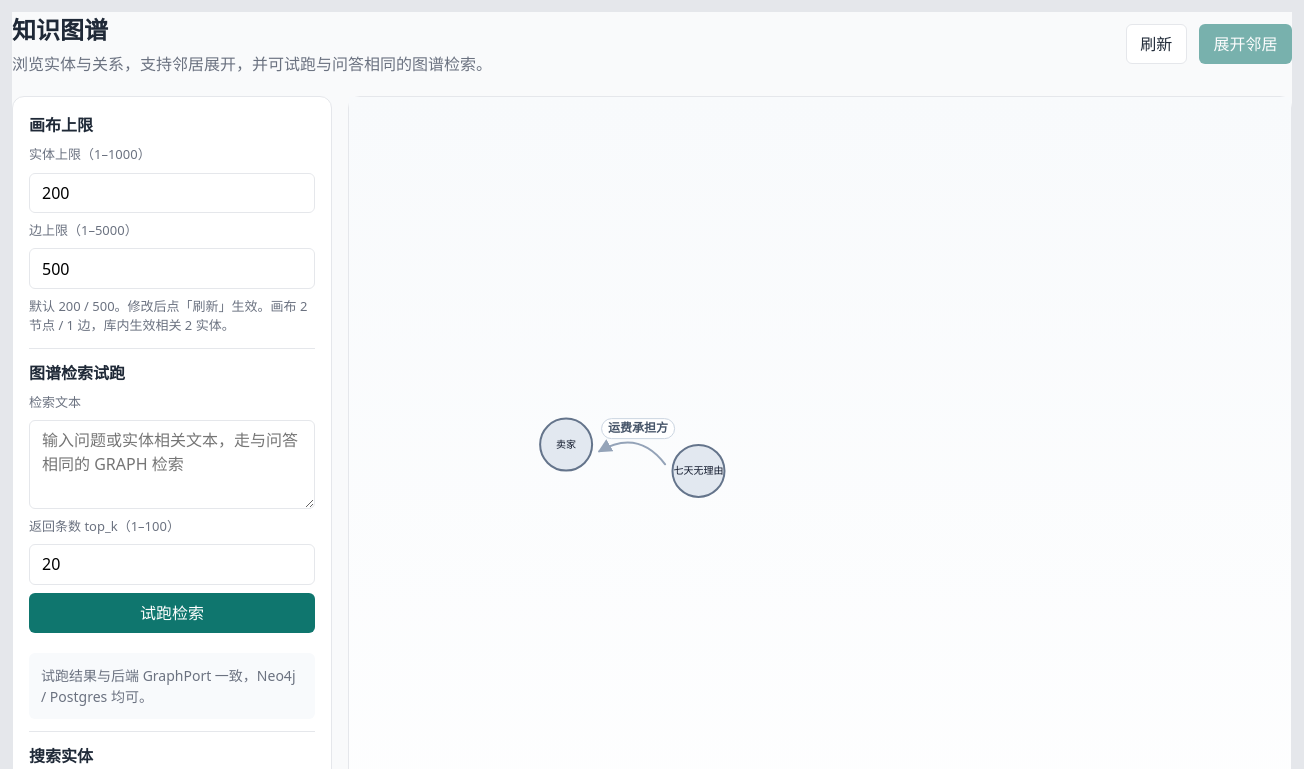
GraphPage › runs graph retrieve and selects hit entity
Expected: the heading "知识图谱" is shown, [12, 13, 108, 46]
Type "七天无理由运费" into the text box labelled "检索文本".
click(172, 464); type("七天无理由运费")  # box [29, 420, 315, 509]
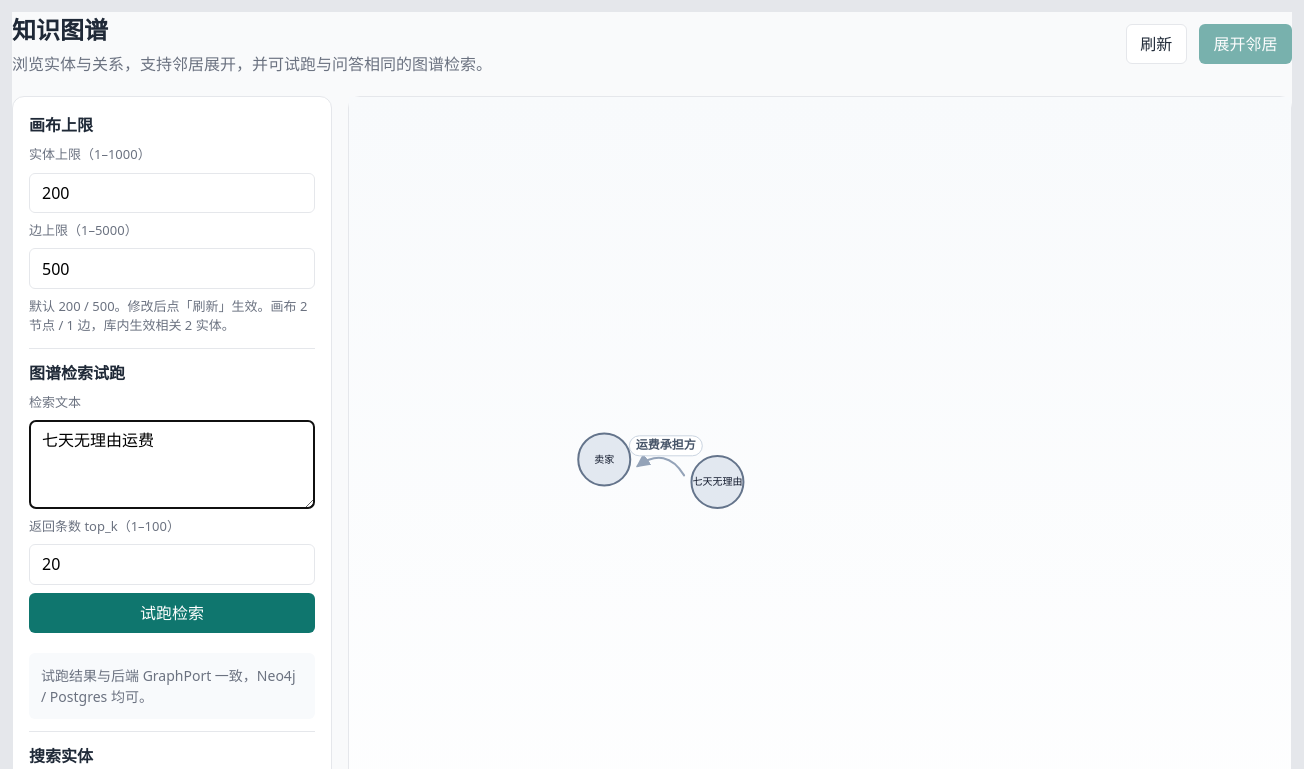
Click the button "试跑检索".
click(172, 613)  # box [29, 592, 315, 633]
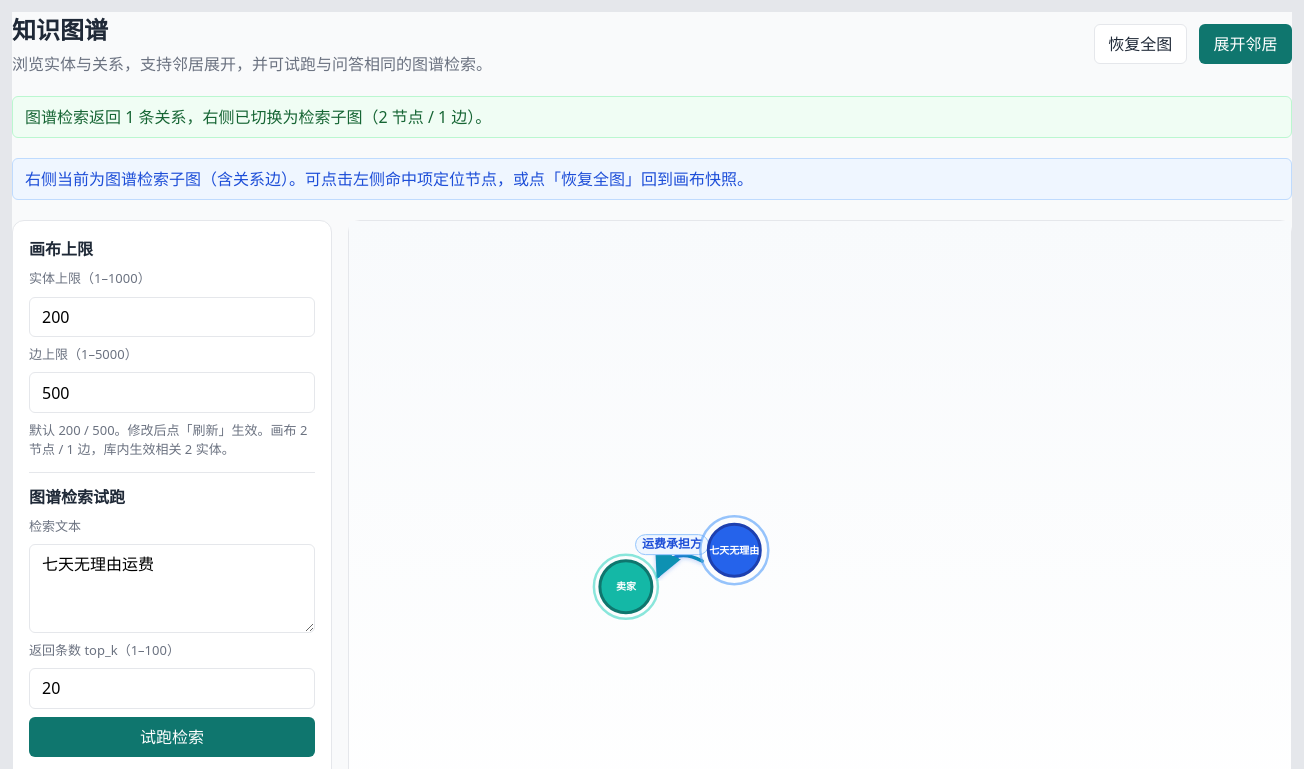
Expected: the text "图谱检索返回 1 条关系，右侧已切换为检索子图（2 节点 / 1 边）。" is shown, [12, 96, 1292, 138]
Expected: the text "右侧当前为图谱检索子图（含关系边）。可点击左侧命中项定位节点，或点「恢复全图」回到画布快照。" is shown, [12, 158, 1292, 200]
